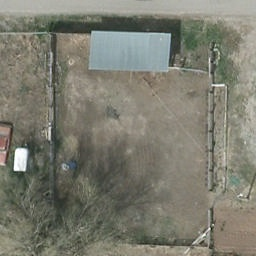car: (0, 124, 15, 168)
